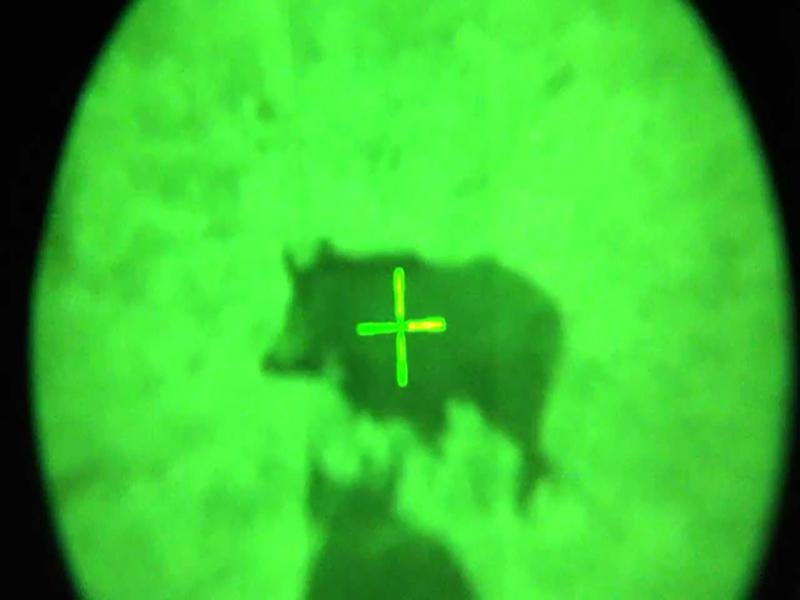cinghiale: (265, 237, 571, 516)
